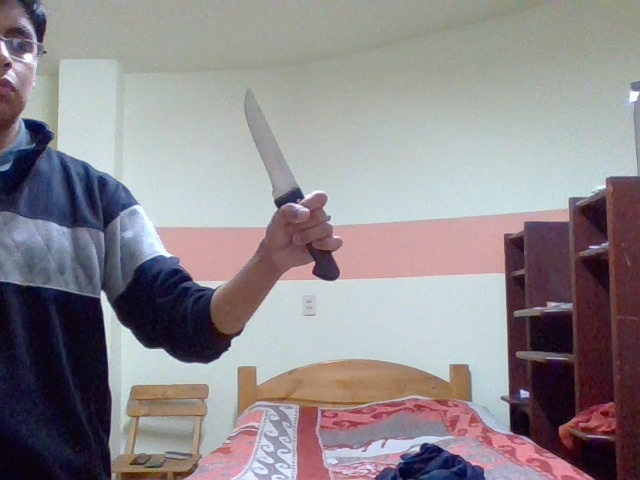cuchillo: (227, 82, 342, 283)
